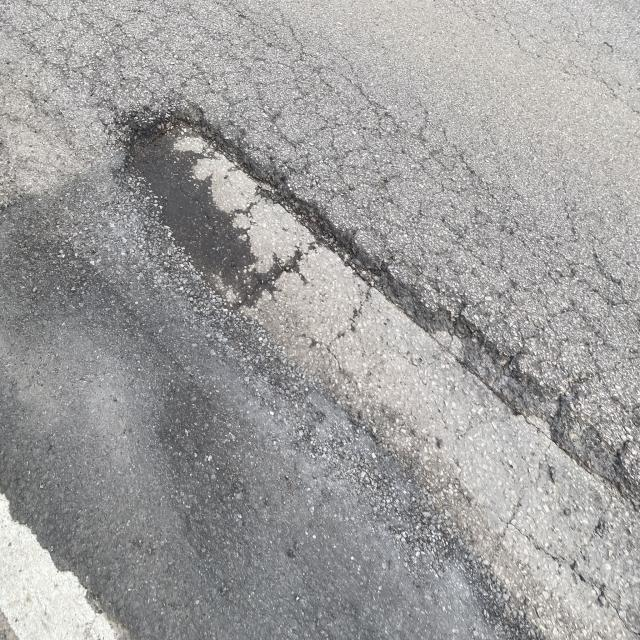Pothole: (108, 75, 354, 359)
